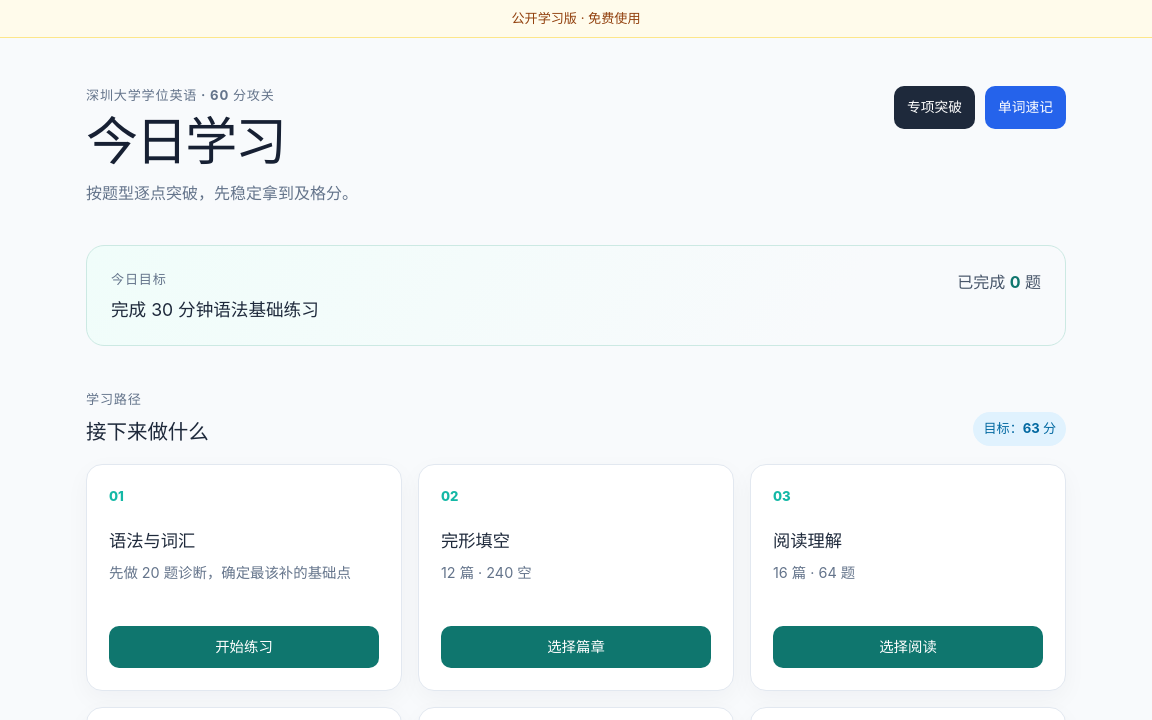
Test: App › opens a diagnostic practice session from the dashboard
Click the button "开始练习" at {"x": 244, "y": 647}, box [109,626,379,668]
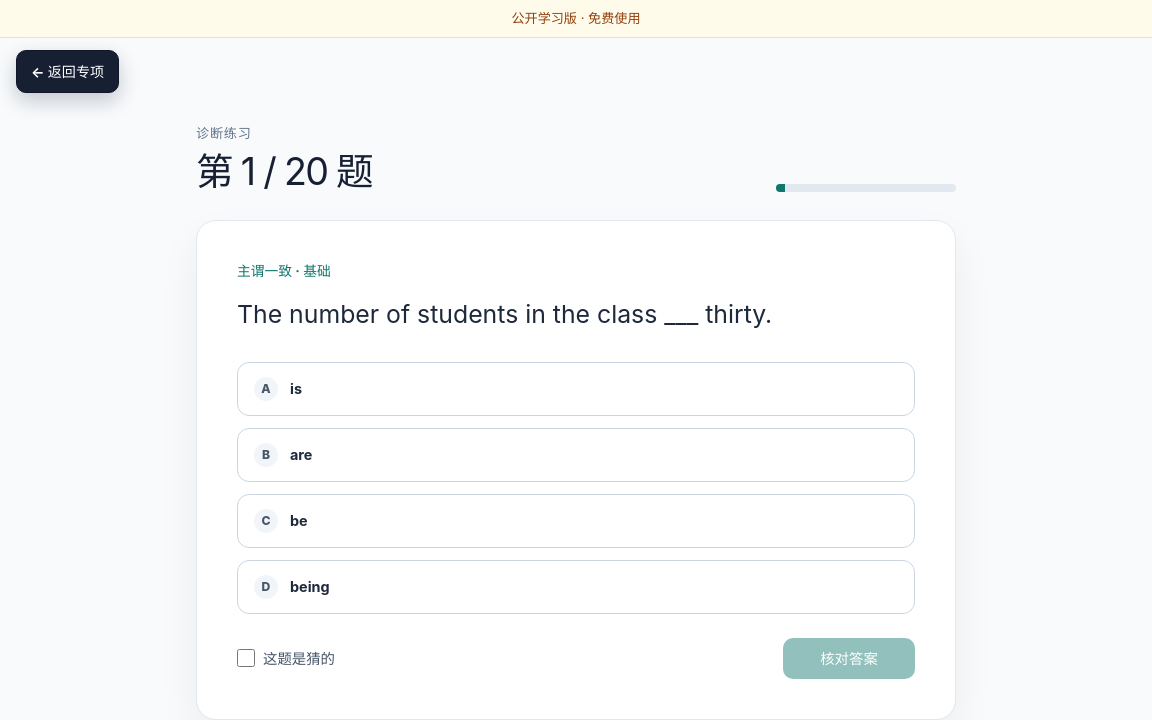
Expected: the text "诊断练习" is shown, [196,125,252,141]
Expected: the heading "第 1 / 20 题" is shown, [196,152,372,192]
